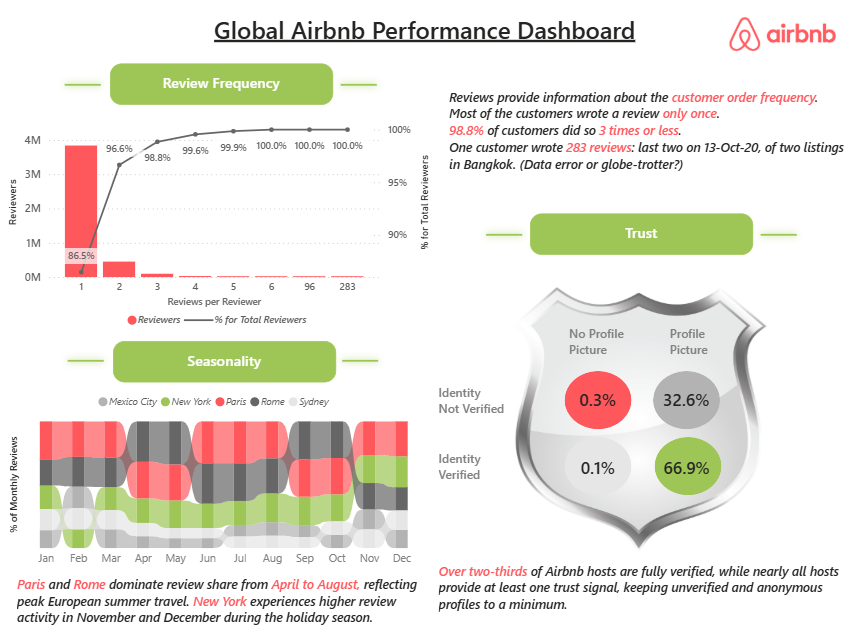

The page's visual inventory and layout, read from the dashboard file:
{"tool":"powerbi","page":{"name":"Reviews","canvas":[960,720],"ordinal":2},"visuals":[{"type":"textbox","box":[182,14,596,64],"z":0},{"type":"image","box":[818,18,118,48],"z":1000},{"type":"textbox","box":[597.4,242.1,248,46],"z":2000},{"type":"shape","box":[539.4,238.1,56,54],"z":4000},{"type":"shape","box":[845.4,238.1,56,54],"z":5000},{"type":"lineStackedColumnComboChart","fields":{"Y":["Reviews.Reviewers"],"Y2":["Reviews.Cumulative % rrreview frequency"],"Category":["Reviews.Reviews per Reviewer"]},"box":[12,132,478,246],"z":6000},{"type":"image","box":[571.6,314.1,296.3,309.3],"z":7000},{"type":"textbox","box":[502,96,454,134],"z":8000},{"type":"textbox","box":[490.6,498.7,95.5,48.6],"z":9000},{"type":"textbox","box":[490.6,424.2,95.5,48.6],"z":10000},{"type":"textbox","box":[634.7,359.5,74.5,48.6],"z":11000},{"type":"textbox","box":[743.2,359.5,69.6,48.6],"z":12000},{"type":"shape","box":[634.7,416.1,74.5,64.8],"z":13000},{"type":"shape","box":[733.5,416.1,74.5,64.8],"z":14000},{"type":"shape","box":[634.7,490.6,74.5,64.8],"z":15000},{"type":"shape","box":[735.1,490.6,74.5,64.8],"z":16000},{"type":"cardVisual","fields":{"Data":["Listings.NotVerified_NoProfile %"]},"box":[629.9,430.7,84.2,34],"z":17000},{"type":"cardVisual","fields":{"Data":["Listings.NotVerified_Profile %"]},"box":[722.2,430.7,97.2,35.6],"z":18000},{"type":"cardVisual","fields":{"Data":["Listings.Verified_NoProfile %"]},"box":[629.9,503.6,84.2,38.9],"z":19000},{"type":"cardVisual","fields":{"Data":["Listings.Verified_Profile %"]},"box":[722.2,506.8,98.8,32.4],"z":20000},{"type":"textbox","box":[490.6,623.4,458.2,68],"z":21000},{"type":"ribbonChart","fields":{"Category":["Reviews.Review Month"],"Y":["Reviews.% of Monthly Reviews"],"Series":["Listings.city"]},"box":[12.9,431.4,467.1,211.4],"z":22000},{"type":"textbox","box":[132.8,382.7,248,46],"z":23000},{"type":"shape","box":[74.8,378.7,56,54],"z":24000},{"type":"shape","box":[380.8,378.7,56,54],"z":25000},{"type":"textbox","box":[129.6,75,248,46],"z":26000},{"type":"shape","box":[71.6,71,56,54],"z":27000},{"type":"shape","box":[377.6,71,56,54],"z":28000},{"type":"textbox","box":[25.9,642.8,453.4,66.4],"z":29000}]}

Visuals, with their boxes in screenshot pixels (x1, y1, x2, y2), scaled from the page's 960x720 canvas onto the 852x639 screenshot:
textbox: bbox=[162, 12, 690, 69]
image: bbox=[726, 16, 831, 59]
textbox: bbox=[530, 215, 750, 256]
shape: bbox=[479, 211, 528, 259]
shape: bbox=[750, 211, 800, 259]
lineStackedColumnComboChart - Reviews.Reviewers x Reviews.Cumulative % rrreview frequency: bbox=[11, 117, 435, 335]
image: bbox=[507, 279, 770, 553]
textbox: bbox=[446, 85, 848, 204]
textbox: bbox=[435, 443, 520, 486]
textbox: bbox=[435, 376, 520, 420]
textbox: bbox=[563, 319, 629, 362]
textbox: bbox=[660, 319, 721, 362]
shape: bbox=[563, 369, 629, 427]
shape: bbox=[651, 369, 717, 427]
shape: bbox=[563, 435, 629, 493]
shape: bbox=[652, 435, 719, 493]
cardVisual - Listings.NotVerified_NoProfile %: bbox=[559, 382, 634, 412]
cardVisual - Listings.NotVerified_Profile %: bbox=[641, 382, 727, 414]
cardVisual - Listings.Verified_NoProfile %: bbox=[559, 447, 634, 481]
cardVisual - Listings.Verified_Profile %: bbox=[641, 450, 729, 479]
textbox: bbox=[435, 553, 842, 614]
ribbonChart - Reviews.Review Month x Reviews.% of Monthly Reviews: bbox=[11, 383, 426, 570]
textbox: bbox=[118, 340, 338, 380]
shape: bbox=[66, 336, 116, 384]
shape: bbox=[338, 336, 388, 384]
textbox: bbox=[115, 67, 335, 107]
shape: bbox=[64, 63, 113, 111]
shape: bbox=[335, 63, 385, 111]
textbox: bbox=[23, 570, 425, 629]
